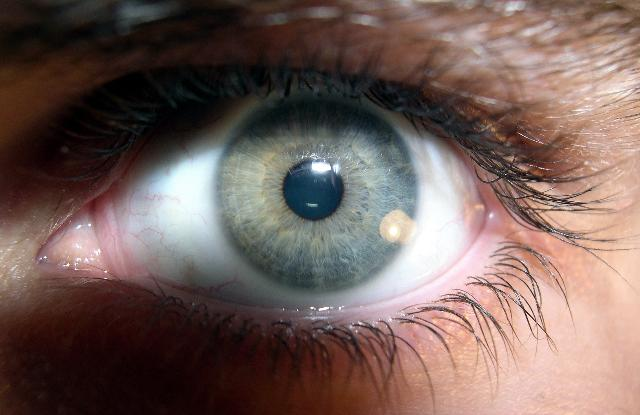eye: (215, 81, 422, 292)
